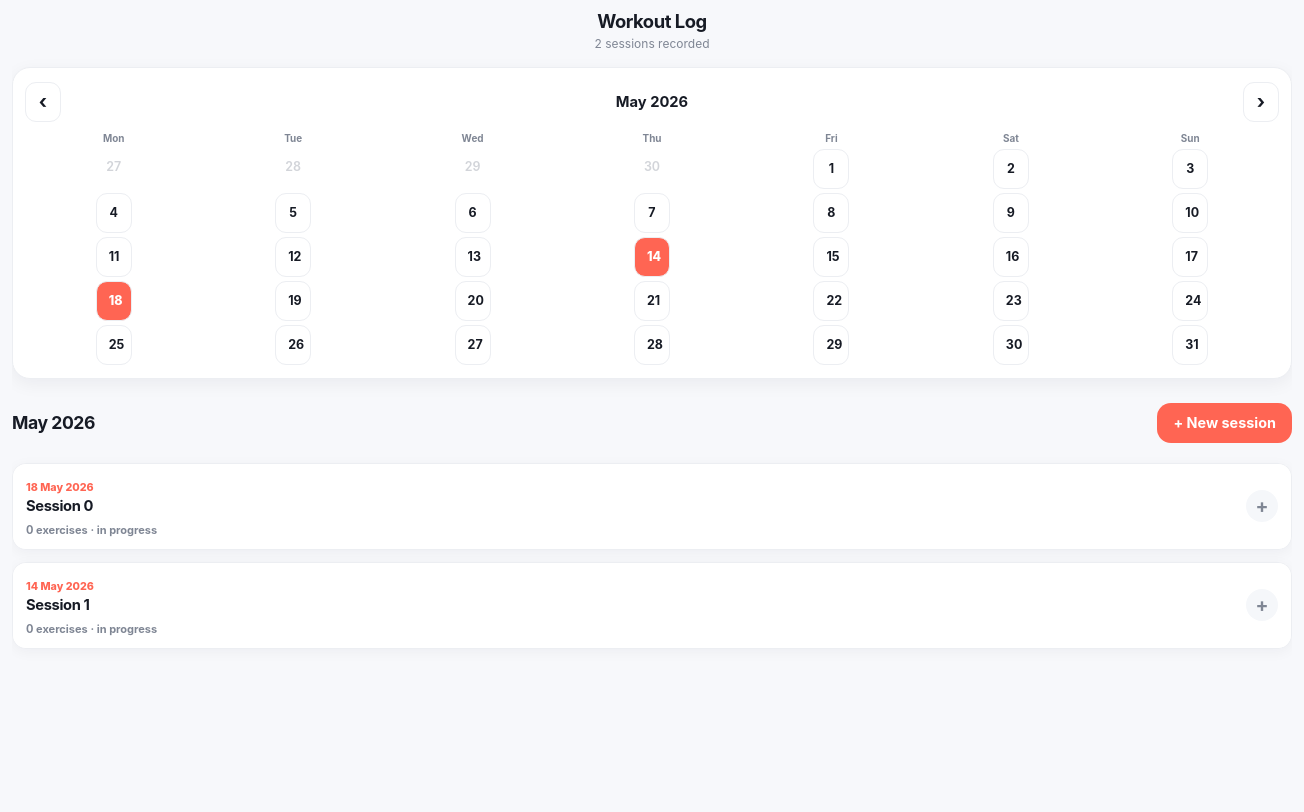
Test: WorkoutLogPage calendar › narrows to one day when you tap it, and widens again when you tap it back
Click the button named "18 May 2026, trained" at (114, 301), box [96,281,132,321]
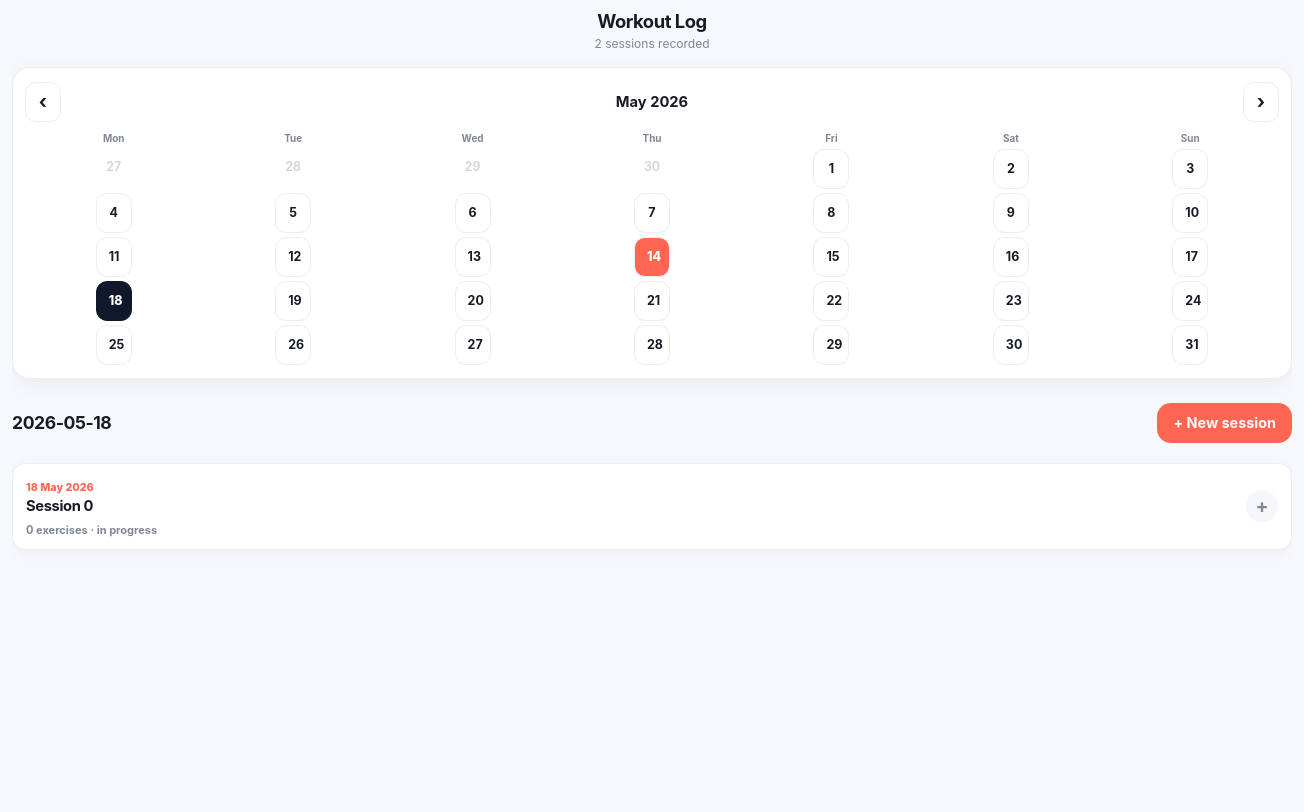
Check: the heading "Session 0" is shown, box [26,497,93,515]
Click the button named "18 May 2026, trained" at (114, 301), box [96,281,132,321]
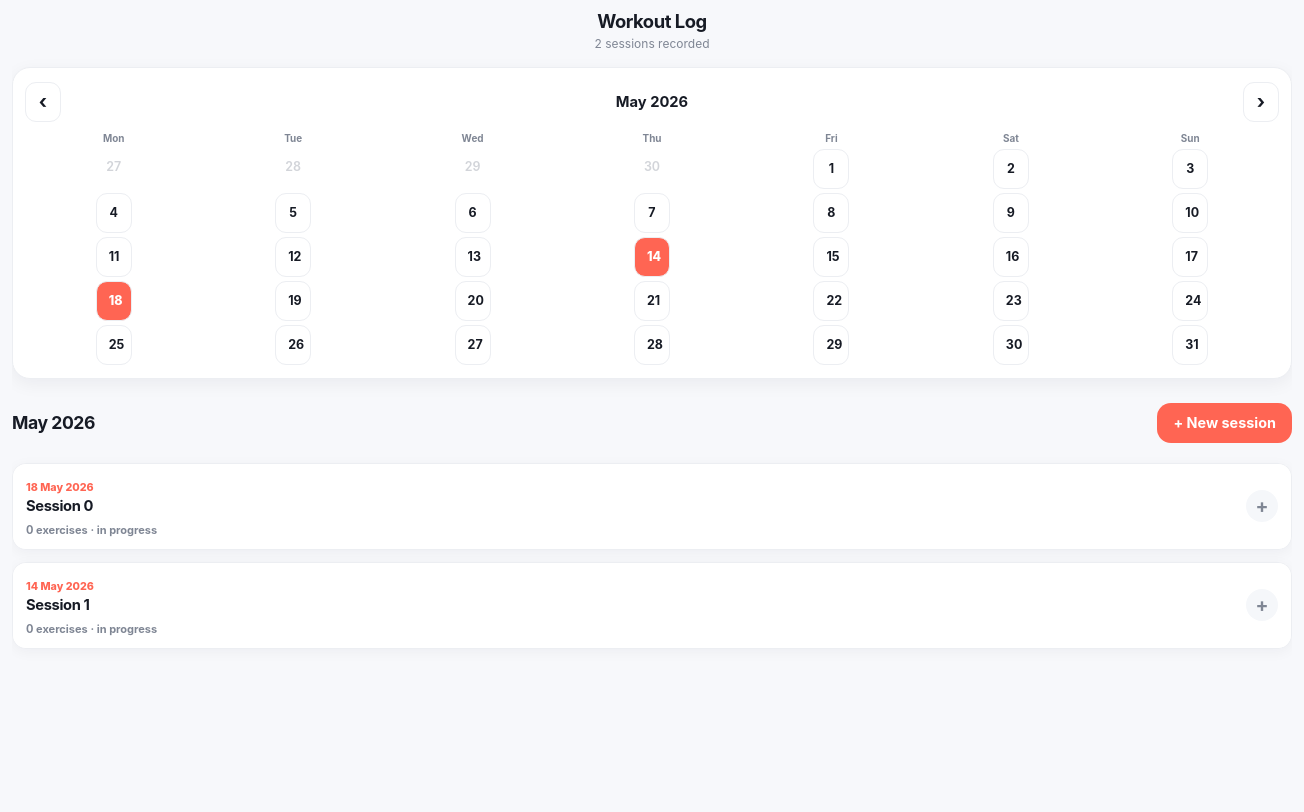
Check: the heading "Session 1" is shown, box [26,596,90,614]
